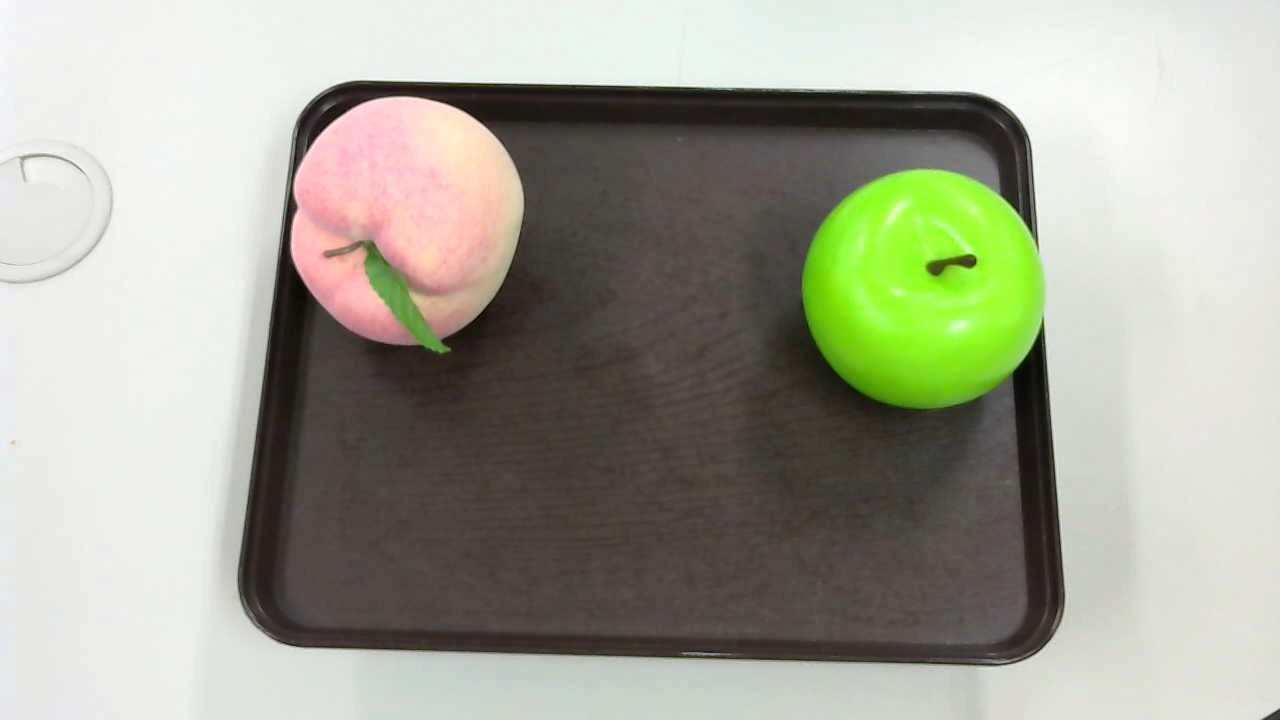green apple: (802, 167, 1047, 405)
peach: (289, 93, 530, 356)
